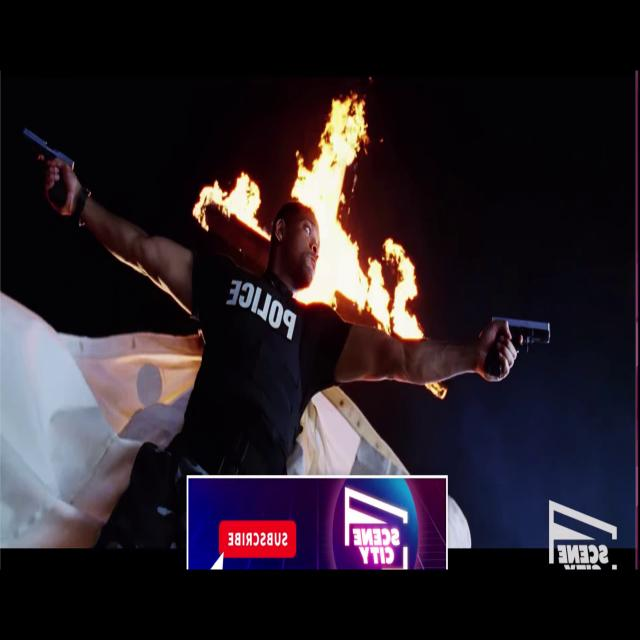weapons: (466, 305, 562, 399), (11, 118, 85, 224)
